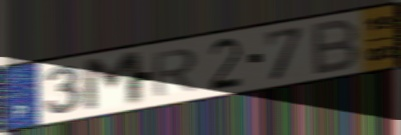2: (207, 36, 245, 93)
3: (43, 63, 84, 117)
7: (263, 23, 307, 83)
B: (310, 16, 362, 77)
M: (81, 48, 147, 115)
R: (150, 46, 200, 99)
